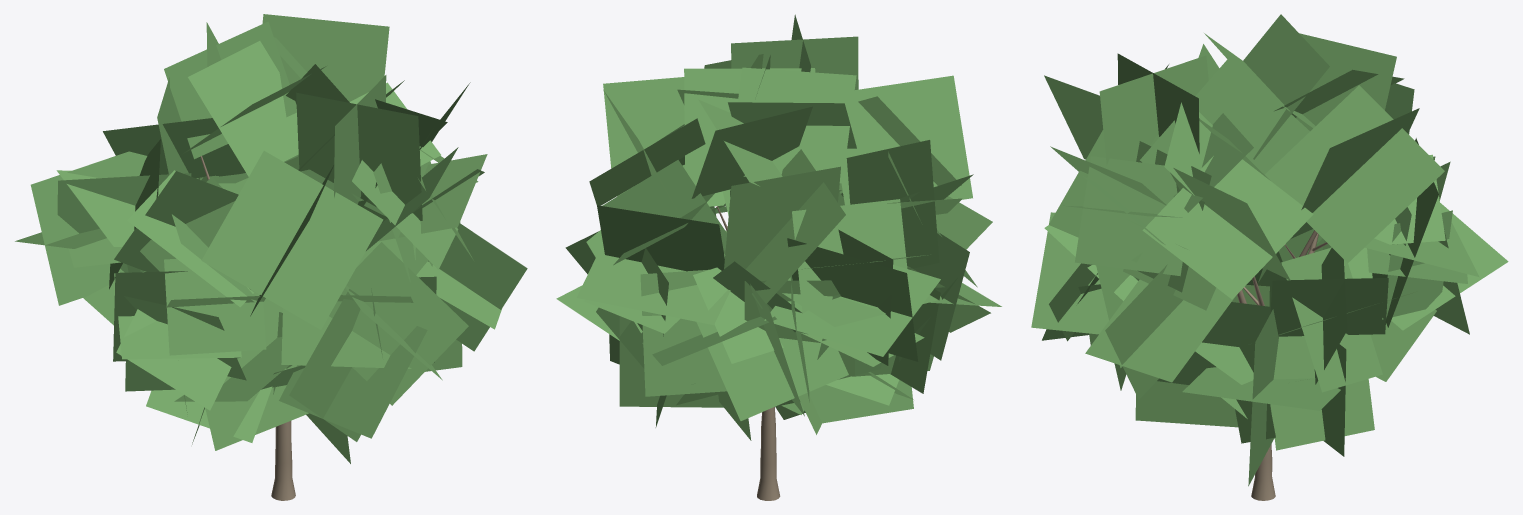
File: tree_plane.glb
3 views of the same model, side by side, from view 1: azimuth 30°, elevation 25°; view 2: azimuth 150°, elevation 25°; view 3: azimuth 270°, elevation 25° (orthographic). The views are drawn at different scales.
Parts seen in each view (by area): view 1: tree_plane; view 2: tree_plane; view 3: tree_plane.
Boxes of the visible parts, box(x1,y1,x2,y2) form: tree_plane: box(15, 14, 527, 500); tree_plane: box(556, 14, 1001, 500); tree_plane: box(1031, 14, 1508, 500).
Bounding box in the file's own units: 9.75 × 10.43 × 10.12.
